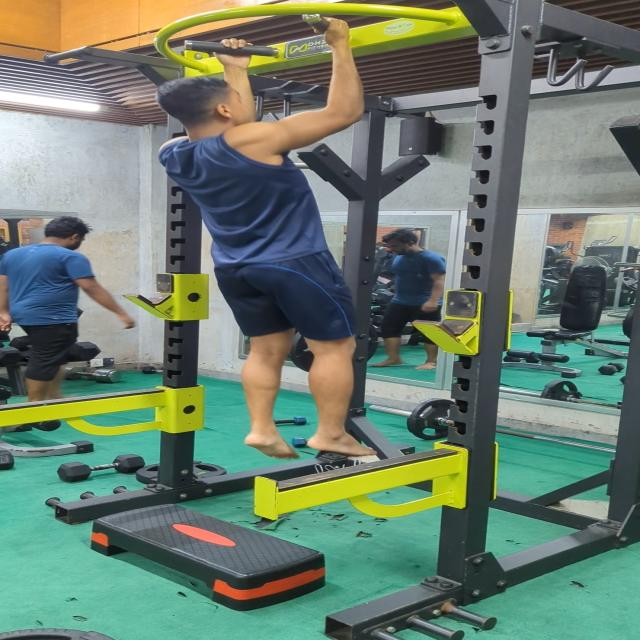Normal_PullUps: (151, 15, 392, 465)
